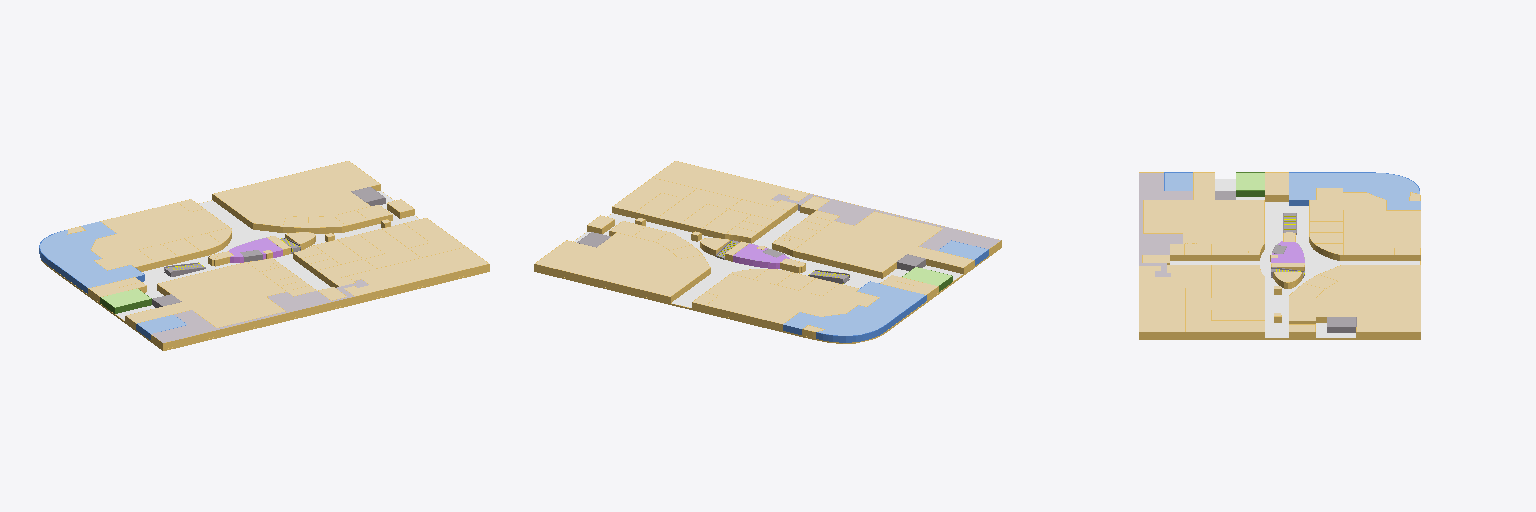
File: logix_noicon_groundfloor.obj
3 views of the same model, side by side, from view 1: azimuth 30°, elevation 25°; view 2: azimuth 150°, elevation 25°; view 3: azimuth 270°, elevation 25° (orthographic).
Parts seen in each view (by area): view 1: polySurface167; view 2: polySurface167; view 3: polySurface167.
Part boxes in pixels (bbox=[...]): polySurface167: bbox=[39, 161, 489, 350]; polySurface167: bbox=[534, 161, 1001, 343]; polySurface167: bbox=[1139, 172, 1420, 339].
Bounding box in the file's own units: 31.64 × 0.7477 × 23.66.